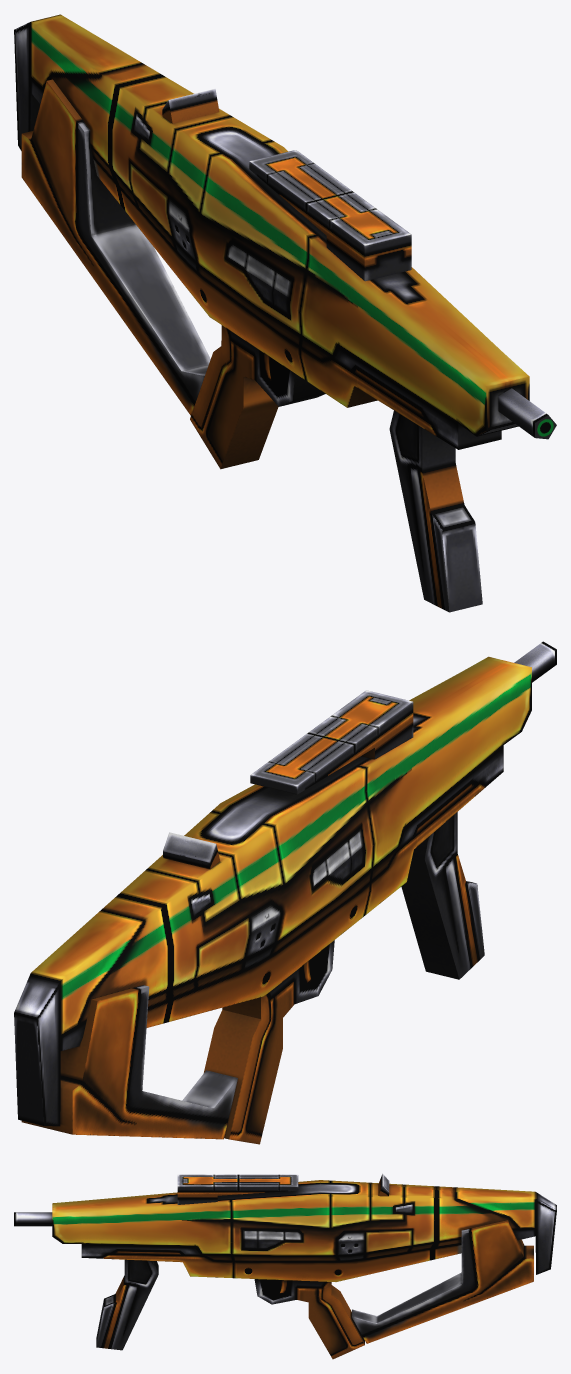
Rendered from weapon_auto_01.FBX.
3 views of the same model, one above another, from view 1: azimuth 30°, elevation 25°; view 2: azimuth 150°, elevation 25°; view 3: azimuth 270°, elevation 25° (orthographic). The views are drawn at different scales.
Parts seen in each view (by area): view 1: weapon_auto_01; view 2: weapon_auto_01; view 3: weapon_auto_01.
Part boxes in pixels (bbox=[...]): weapon_auto_01: bbox=[14, 14, 556, 612]; weapon_auto_01: bbox=[14, 641, 556, 1144]; weapon_auto_01: bbox=[14, 1173, 556, 1359].
Size of the model in its own units: 18.53 by 64.69 by 182.
